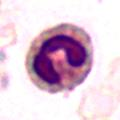eosi: (24, 20, 94, 96)
